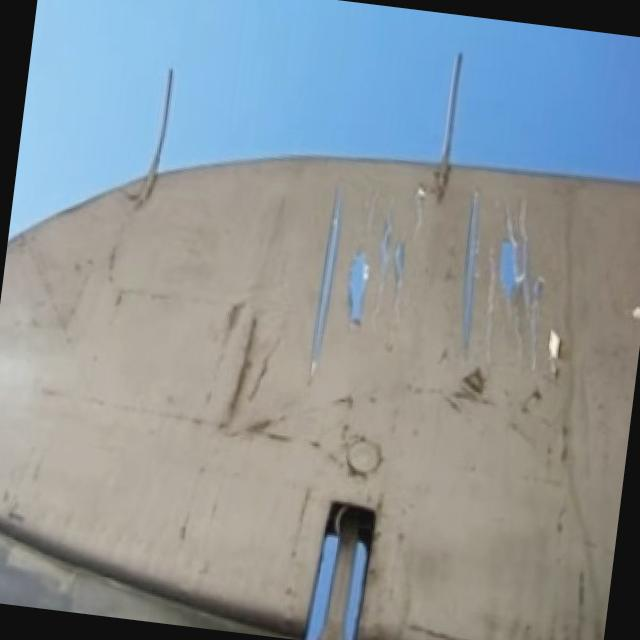crack: (297, 163, 563, 413)
